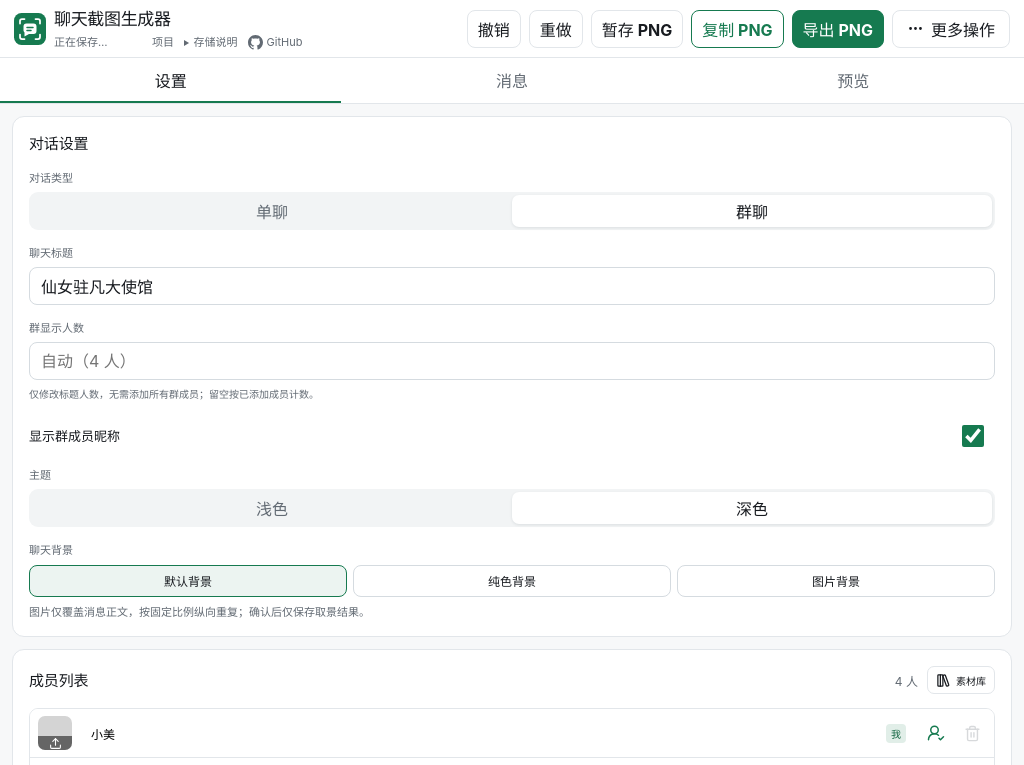
Test: App › saves and confirms applying a local group template
Click the button with aria-label "打开素材库" at (961, 680), box [927,666,995,694]
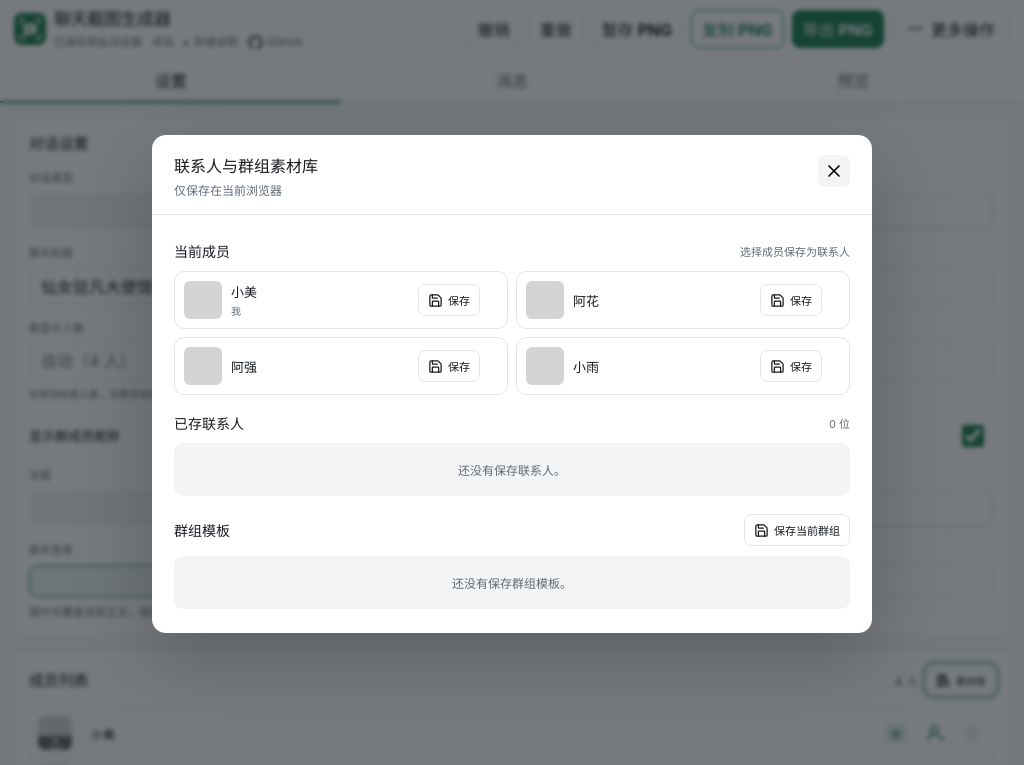
Click the button "保存当前群组" at (797, 530), box [744,514,850,546]
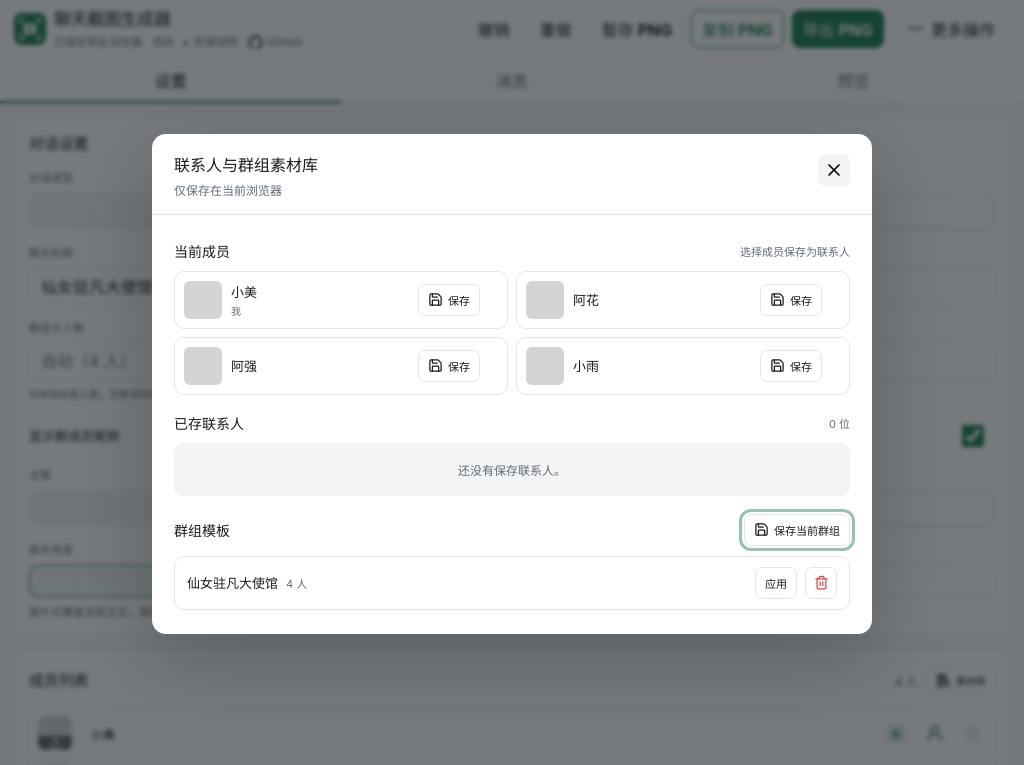
expect the button with aria-label "应用群组：仙女驻凡大使馆" is shown: met, box [755,567,797,599]
Click the button named "关闭素材库" at (834, 170), box [818,154,850,186]
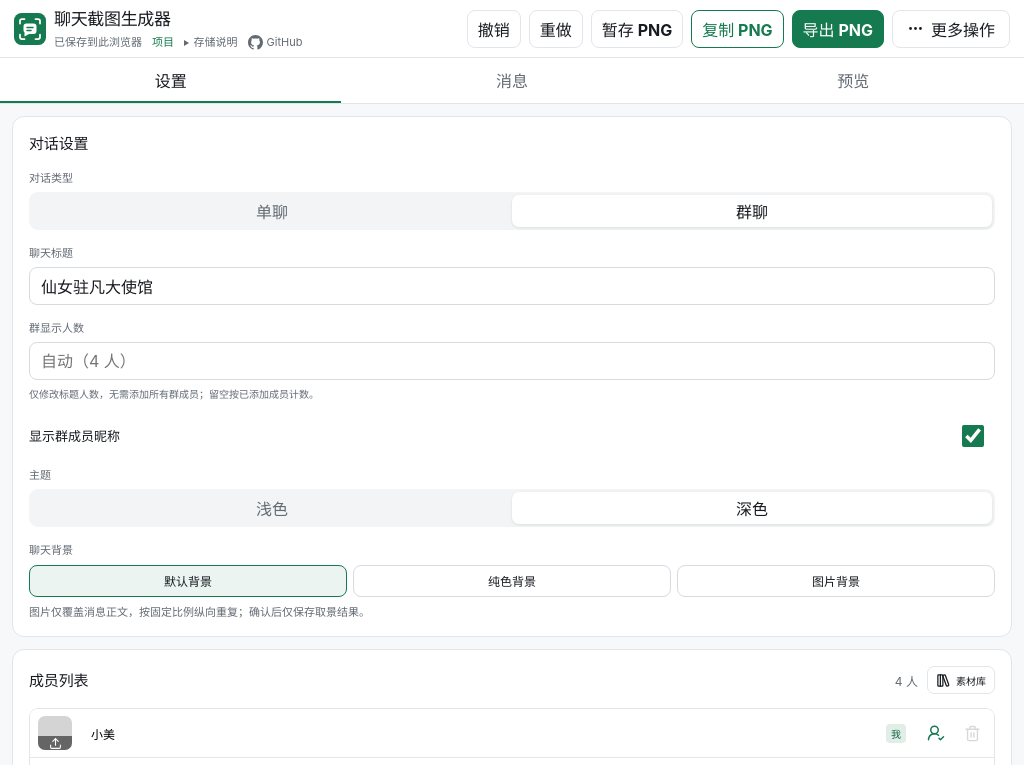
Replace the text in the field labelled "聊天标题" with "临时群名" at (512, 286), box [29,267,995,305]
Click the button with aria-label "打开素材库" at (961, 680), box [927,666,995,694]
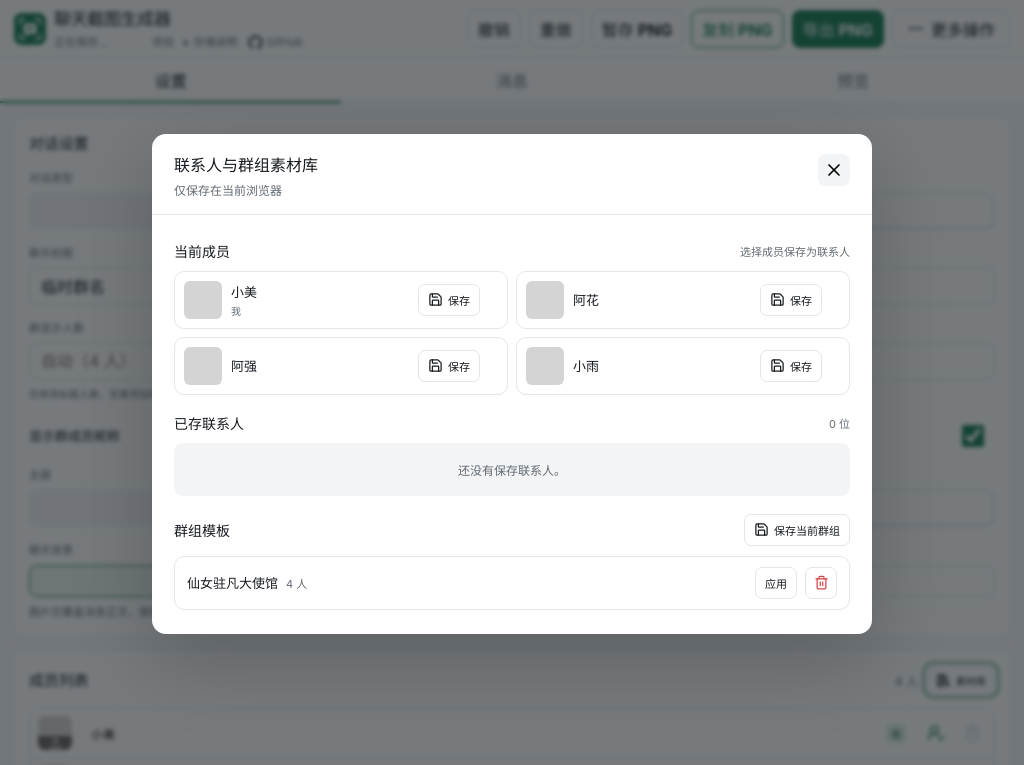
Click the button with aria-label "应用群组：仙女驻凡大使馆" at (776, 583), box [755,567,797,599]
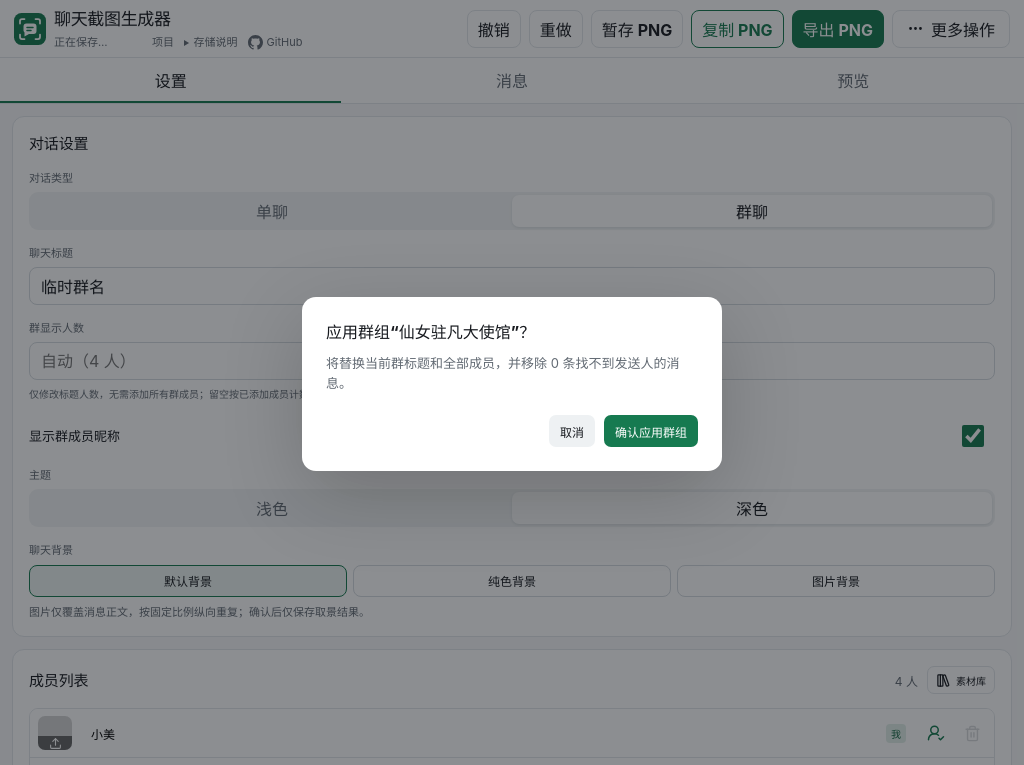
expect the dialog "应用群组“仙女驻凡大使馆”？" shows "移除 0 条": met, box [302,297,722,471]
Click the button "确认应用群组" at (651, 431), box [604,415,698,447]
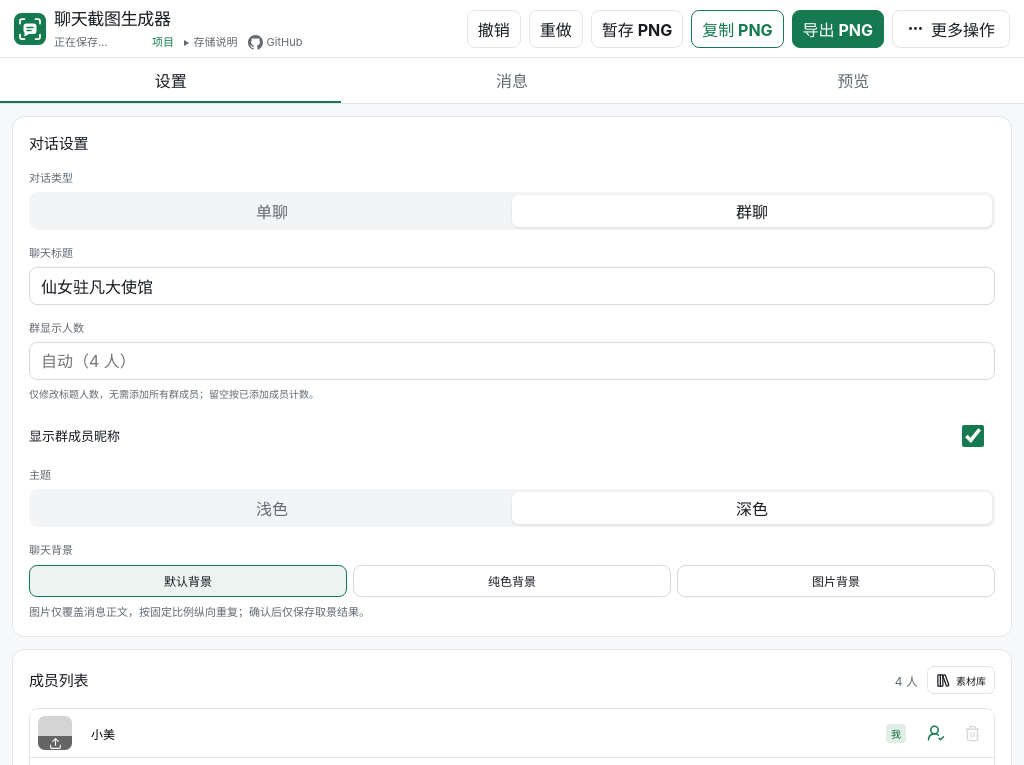
expect the field labelled "聊天标题" holds "仙女驻凡大使馆": met, box [29,267,995,305]
